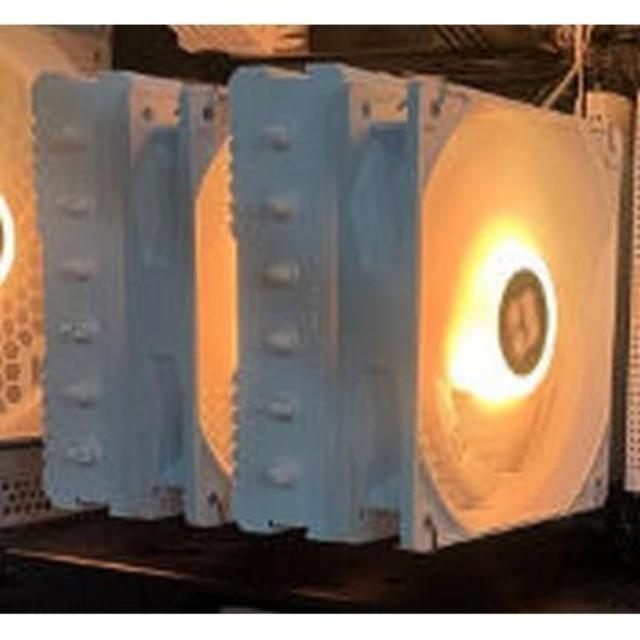CPU_Fan: (28, 66, 612, 534)
